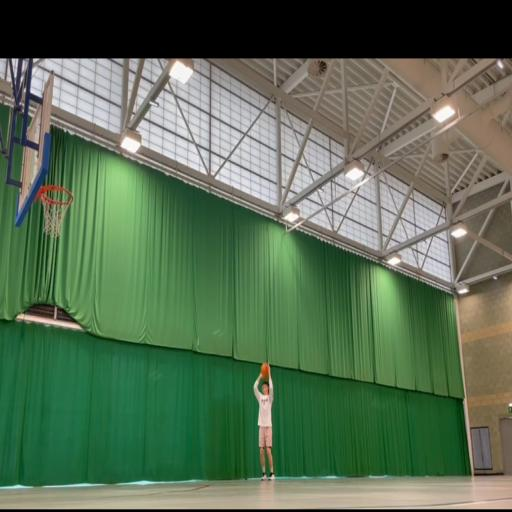hoops: (42, 177, 74, 244)
